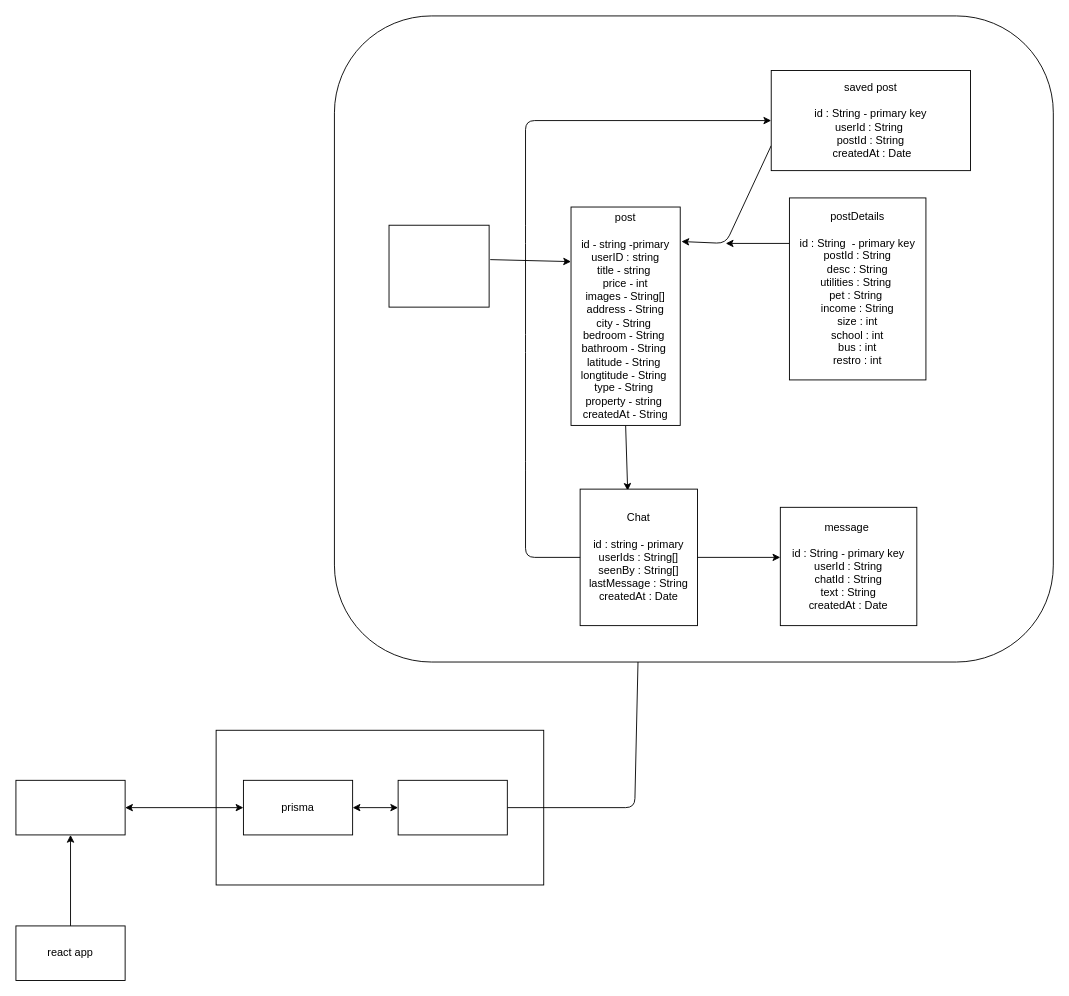
Image size: 1069x996. Some labels were removed from this diagram. Each missing label, with the box of its shape:
express API: (15, 779, 125, 835)
mongoDB: (397, 779, 507, 835)
user id - string -primary usernam -string email - string createdAt -Date: (388, 224, 489, 307)
